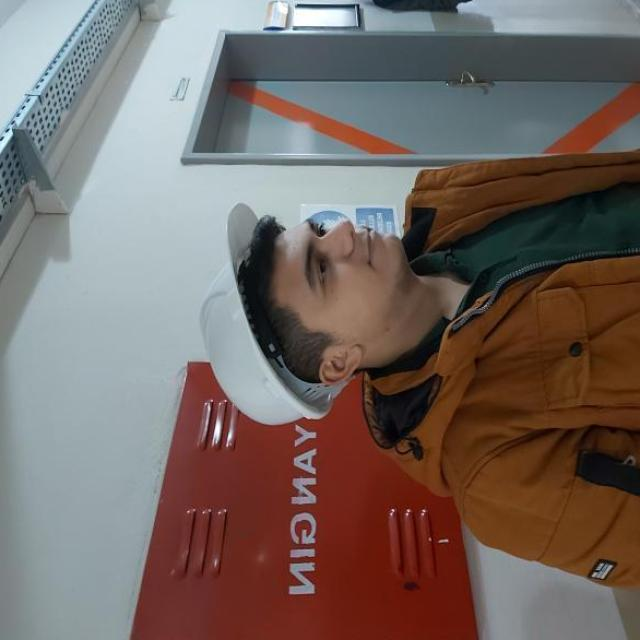helmet: (200, 201, 352, 426)
